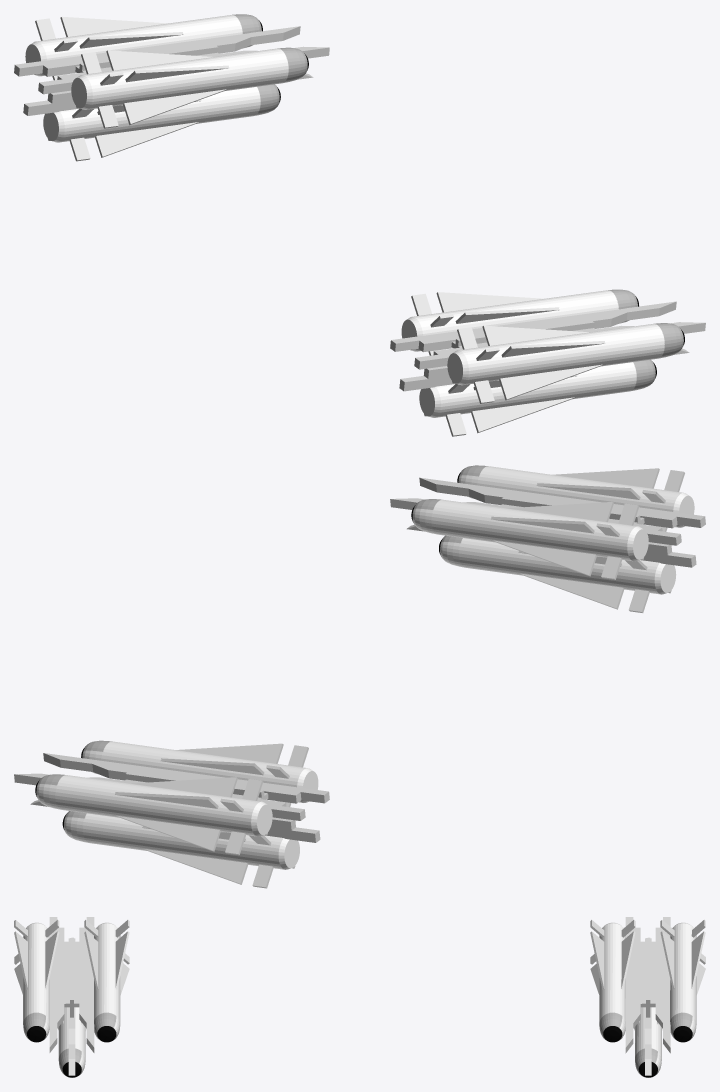
File: a10cagm6526.glb
The picture shows the model from 3 angles, top to bottom: view 1: azimuth 30°, elevation 25°; view 2: azimuth 150°, elevation 25°; view 3: azimuth 270°, elevation 25°; orthographic projection. The views are drawn at different scales.
Parts seen in each view (by area): view 1: 立方体.006, 立方体.035, 立方体.004, 立方体.008, 立方体.007, 立方体.003, 立方体.002, 立方体.005; view 2: 立方体.003, 立方体.007, 立方体.004, 立方体.008, 立方体.035, 立方体.006, 立方体.002, 立方体.005; view 3: 立方体.005, 立方体.002, 立方体.003, 立方体.007, 立方体.006, 立方体.035, 立方体.008, 立方体.004.
Part boxes in pixels (bbox=[...]): 立方体.006: bbox=[447, 323, 684, 403]; 立方体.035: bbox=[71, 47, 308, 128]; 立方体.004: bbox=[43, 84, 280, 161]; 立方体.008: bbox=[419, 359, 656, 436]; 立方体.007: bbox=[401, 289, 638, 355]; 立方体.003: bbox=[25, 14, 262, 80]; 立方体.002: bbox=[14, 26, 329, 115]; 立方体.005: bbox=[390, 301, 705, 391]; 立方体.003: bbox=[35, 774, 272, 855]; 立方体.007: bbox=[411, 499, 648, 579]; 立方体.004: bbox=[62, 811, 299, 888]; 立方体.008: bbox=[439, 535, 676, 612]; 立方体.035: bbox=[81, 740, 318, 807]; 立方体.006: bbox=[457, 465, 694, 531]; 立方体.002: bbox=[14, 753, 329, 842]; 立方体.005: bbox=[390, 477, 705, 567]; 立方体.005: bbox=[49, 917, 94, 1075]; 立方体.002: bbox=[625, 917, 670, 1075]; 立方体.003: bbox=[660, 920, 705, 1042]; 立方体.007: bbox=[84, 920, 129, 1042]; 立方体.006: bbox=[14, 919, 59, 1042]; 立方体.035: bbox=[590, 920, 635, 1042]; 立方体.008: bbox=[58, 1007, 86, 1077]; 立方体.004: bbox=[634, 1007, 662, 1077].
Size of the model in its own units: 3.2 by 1.18 by 8.64.
6 materials, 1 textured.
